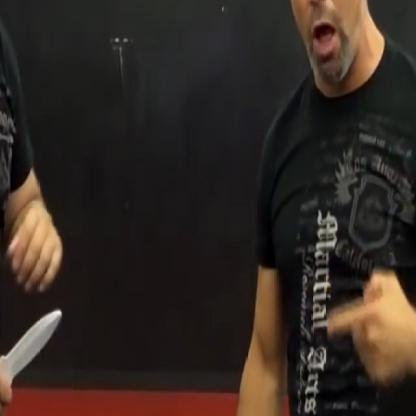knife: (0, 296, 67, 415)
